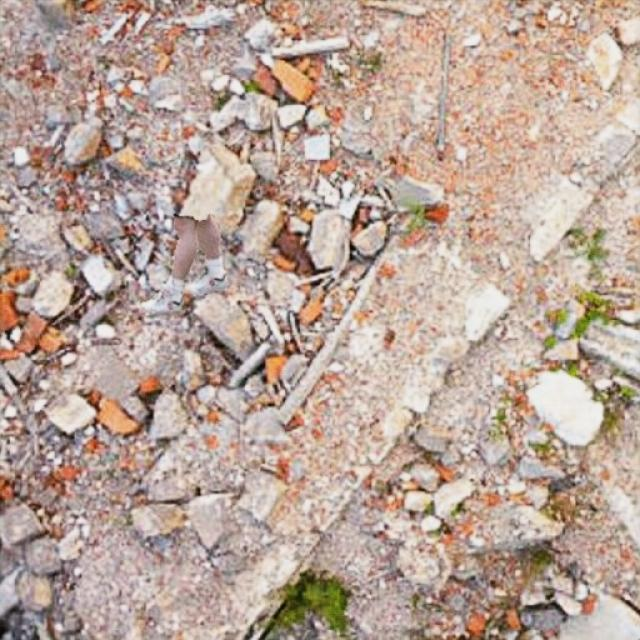Person in Rubble: (140, 214, 226, 312)
